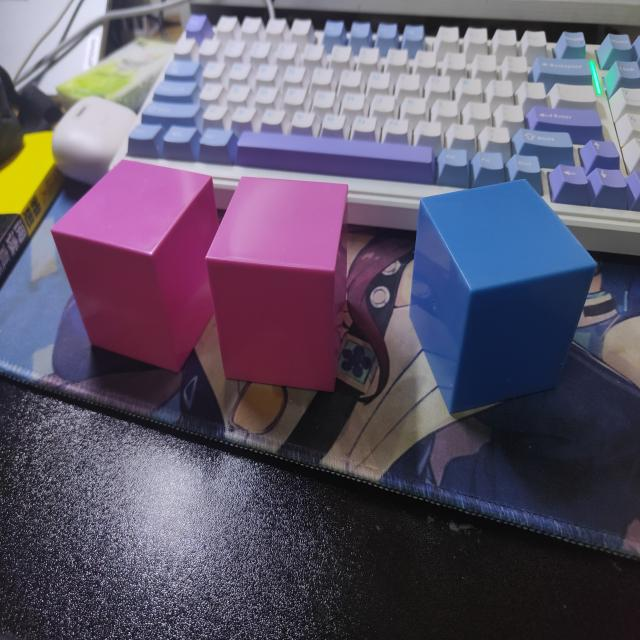blue: (408, 179, 598, 420)
pink: (50, 158, 223, 377), (205, 177, 348, 394)
